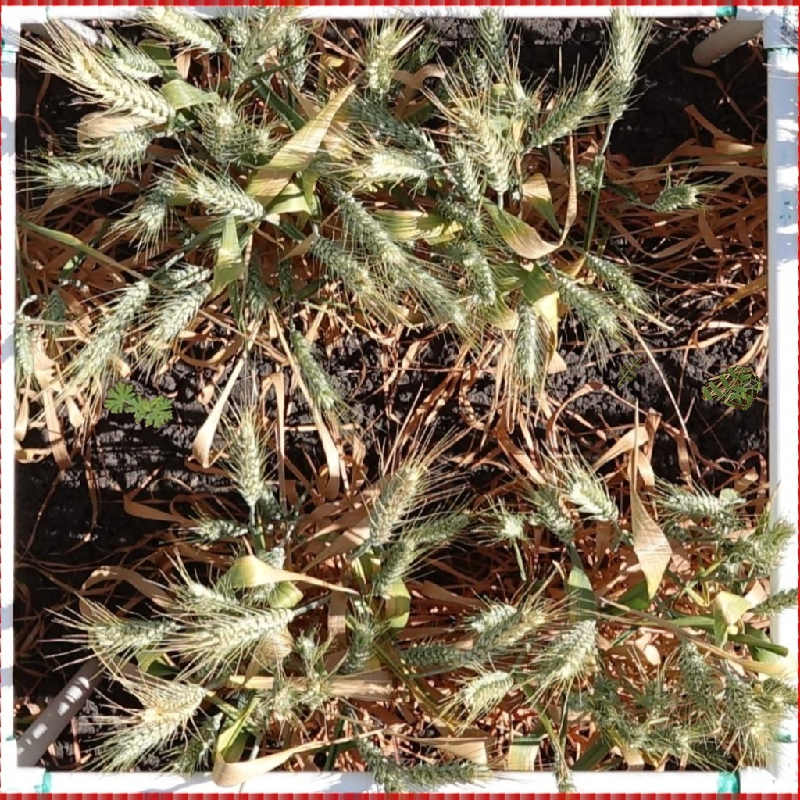spikelet: (106, 676, 209, 767), (71, 275, 152, 381), (69, 63, 178, 126), (346, 93, 441, 161), (330, 186, 406, 265), (188, 603, 297, 658), (362, 459, 426, 547), (143, 277, 215, 354), (292, 1, 495, 27), (397, 257, 471, 327), (460, 103, 516, 195), (600, 7, 644, 122), (286, 325, 342, 412), (552, 269, 622, 336), (529, 83, 600, 148), (187, 170, 270, 225), (306, 231, 377, 295), (133, 676, 209, 734), (469, 603, 548, 658), (143, 3, 227, 54), (583, 249, 653, 310), (89, 610, 178, 654), (230, 409, 268, 509), (351, 733, 414, 792), (509, 296, 548, 384), (394, 755, 488, 791), (172, 710, 226, 772), (552, 615, 601, 683), (564, 469, 623, 525), (673, 635, 718, 707), (722, 671, 768, 738), (360, 21, 401, 96), (360, 145, 435, 186), (458, 236, 501, 307), (400, 507, 474, 548), (371, 534, 420, 593), (225, 23, 268, 90), (457, 666, 518, 712), (199, 99, 242, 164), (178, 576, 246, 616), (631, 719, 702, 757), (661, 484, 733, 521), (531, 486, 575, 546), (135, 173, 178, 234), (277, 15, 311, 92), (42, 157, 116, 190), (339, 617, 381, 675), (446, 138, 483, 202), (432, 192, 488, 234), (104, 44, 167, 81), (477, 5, 511, 71), (97, 124, 154, 161), (398, 638, 466, 669), (465, 598, 520, 636), (230, 123, 277, 163), (191, 513, 251, 544), (10, 312, 38, 378), (159, 260, 213, 293), (263, 677, 301, 722), (651, 179, 700, 213), (567, 161, 608, 200), (251, 480, 288, 523), (297, 673, 335, 712), (634, 679, 672, 718), (248, 253, 267, 320), (291, 629, 323, 665), (274, 253, 297, 302), (494, 509, 527, 543), (46, 292, 69, 340), (467, 50, 493, 91), (226, 15, 254, 47)
weed: (98, 381, 179, 434), (698, 363, 768, 423), (617, 356, 644, 387)
